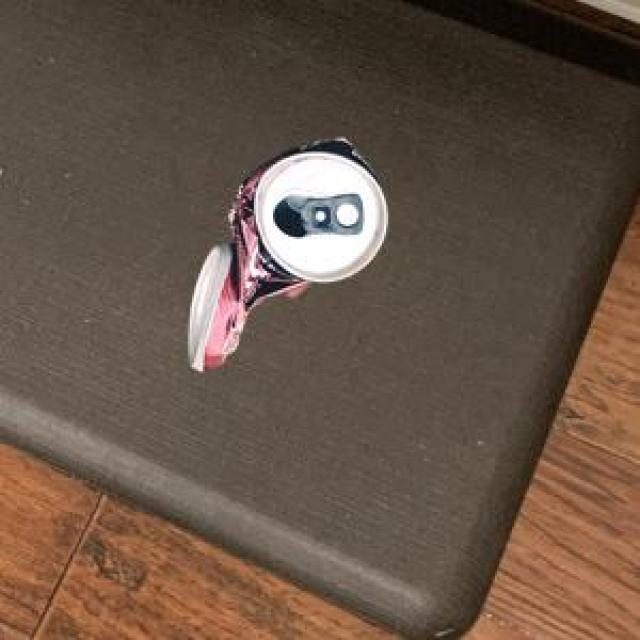Can: (185, 135, 383, 368)
